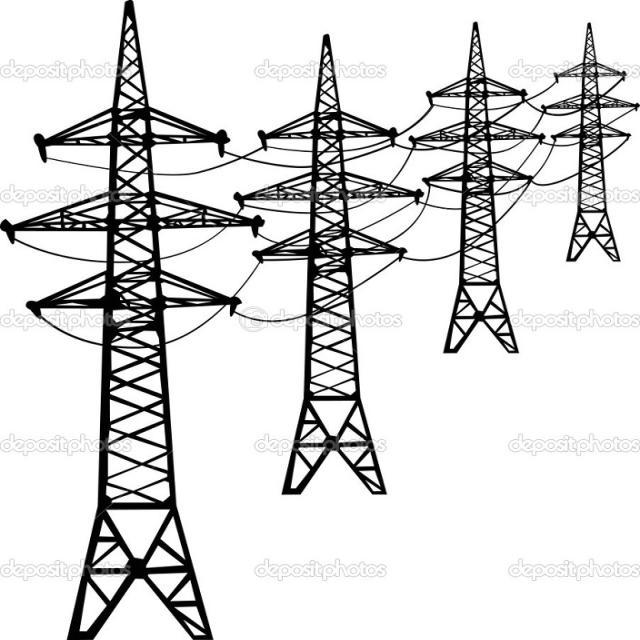non-critical vegetation: (15, 3, 244, 634), (240, 21, 414, 498), (412, 9, 540, 358), (547, 15, 628, 266)
